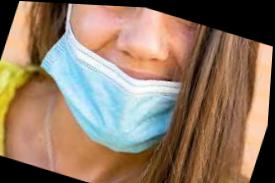OK: (24, 2, 245, 177)
